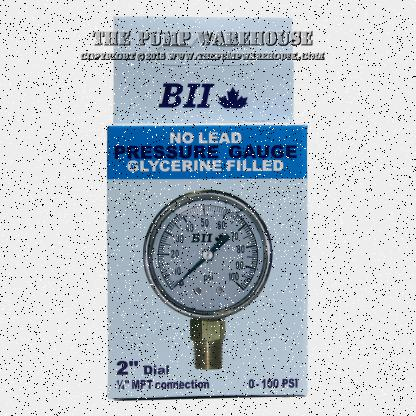needle: (173, 257, 206, 288)
